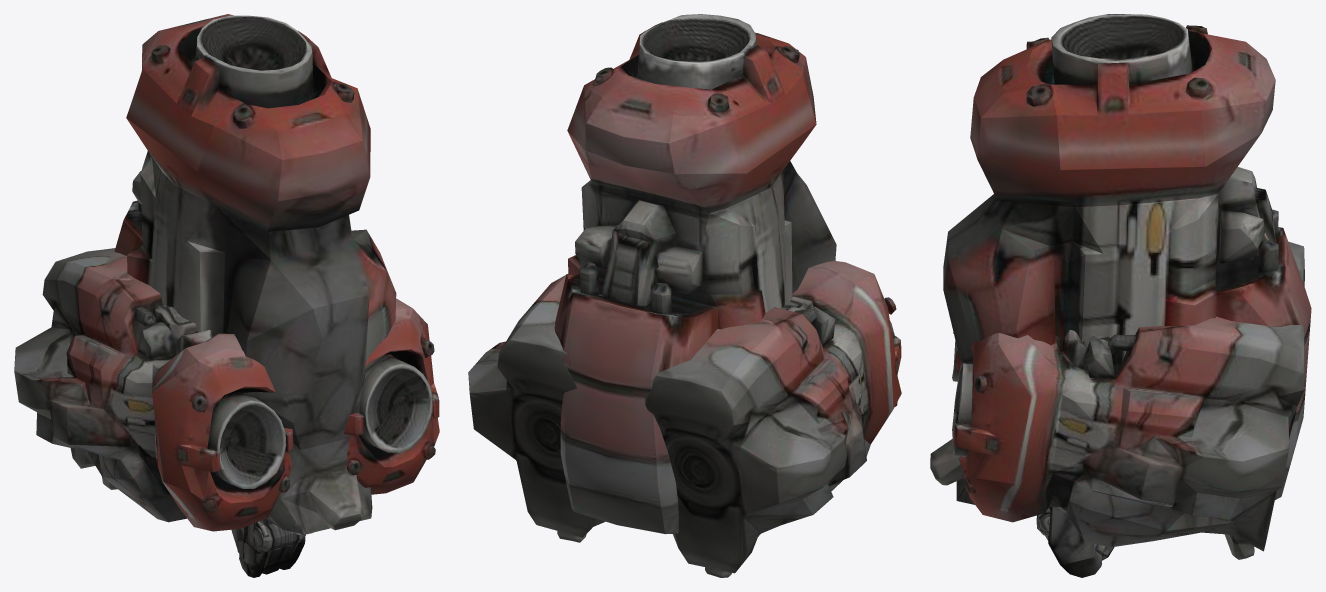
Rendered from turret1.glb.
3 views of the same model, side by side, from view 1: azimuth 30°, elevation 25°; view 2: azimuth 150°, elevation 25°; view 3: azimuth 270°, elevation 25° (orthographic). The views are drawn at different scales.
Visible parts, largest first — view 1: 5.001, 0.001, 1.001; view 2: 5.001, 0.001; view 3: 5.001, 0.001.
Part boxes in pixels (bbox=[...]): 5.001: bbox=[114, 14, 396, 577]; 0.001: bbox=[14, 248, 439, 531]; 1.001: bbox=[253, 521, 305, 568]; 5.001: bbox=[554, 14, 836, 534]; 0.001: bbox=[468, 260, 901, 577]; 5.001: bbox=[930, 14, 1311, 577]; 0.001: bbox=[952, 241, 1304, 559].
Size of the model in its own units: 2.35 by 3.3 by 2.12.
1 material, 1 textured.
